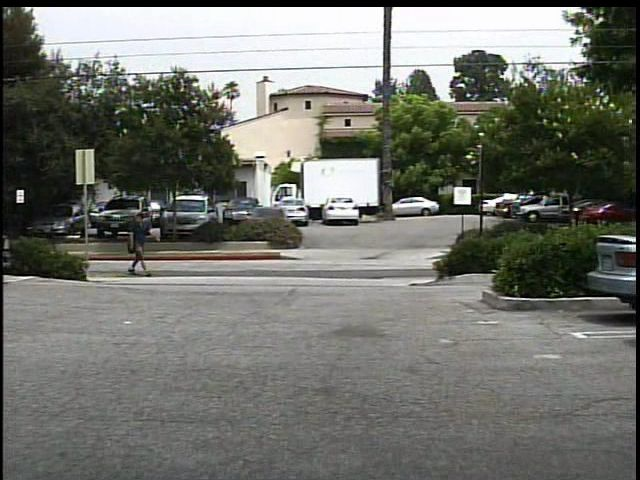person: (125, 209, 158, 277)
